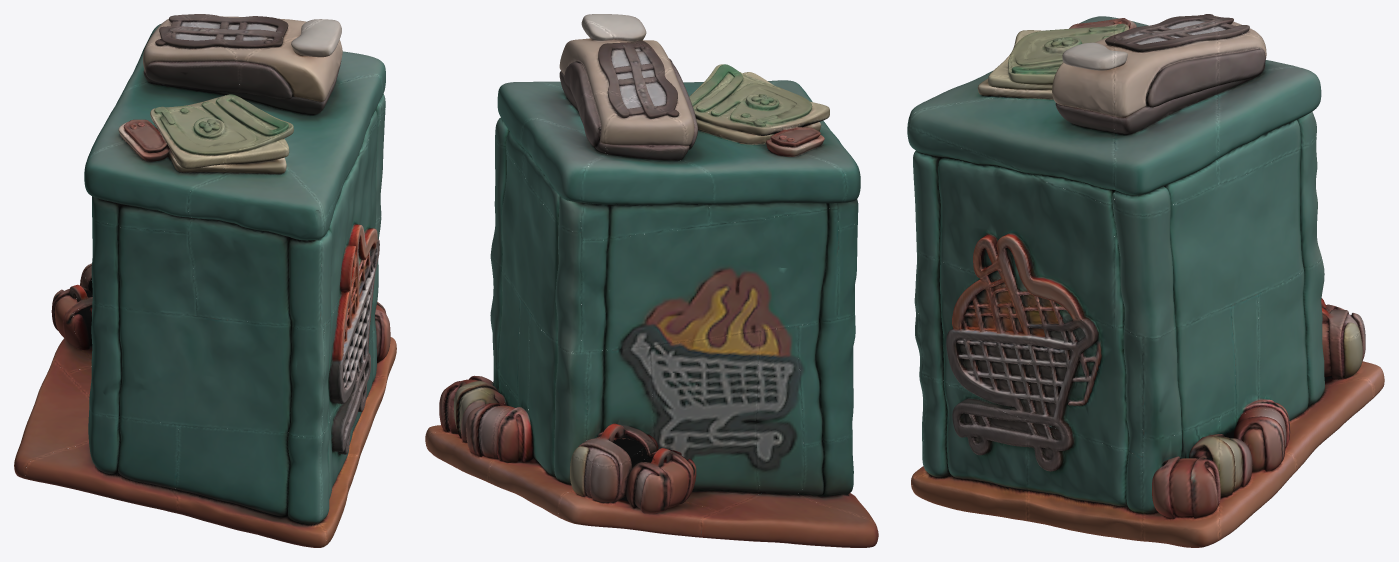
File: pos.glb
3 views of the same model, side by side, from view 1: azimuth 30°, elevation 25°; view 2: azimuth 150°, elevation 25°; view 3: azimuth 270°, elevation 25° (orthographic). The views are drawn at different scales.
Parts seen in each view (by area): view 1: tmpam2chq3aobj; view 2: tmpam2chq3aobj; view 3: tmpam2chq3aobj.
Part boxes in pixels (x1,y1,x2,y2): tmpam2chq3aobj: [14, 14, 396, 547]; tmpam2chq3aobj: [425, 14, 878, 547]; tmpam2chq3aobj: [907, 14, 1384, 547].
Bounding box in the file's own units: 0.9448 × 1 × 0.8838.
1 material, 1 textured.
